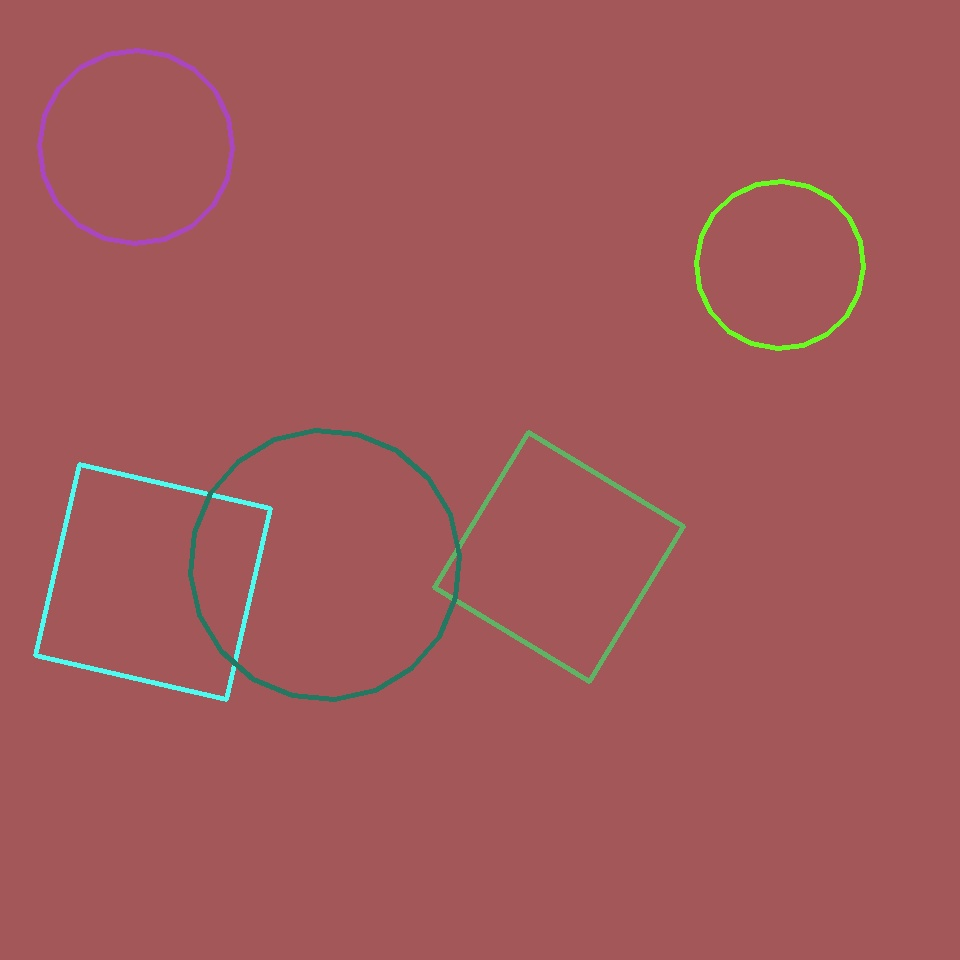square: (434, 432, 684, 682), (35, 464, 270, 700)
triangle: (191, 430, 460, 700), (39, 51, 232, 244), (696, 182, 864, 348)
